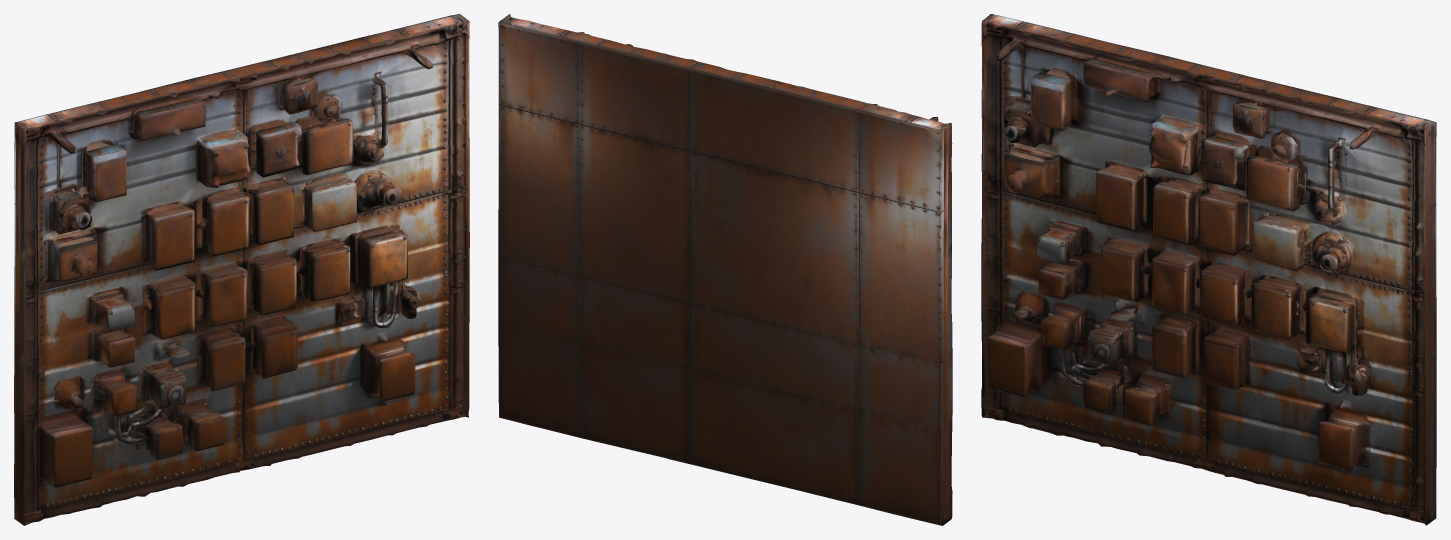
File: Wall04.glb
The picture shows the model from 3 angles, left to right: view 1: azimuth 30°, elevation 25°; view 2: azimuth 150°, elevation 25°; view 3: azimuth 330°, elevation 25°; orthographic projection.
Bounding box in the file's own units: 2 × 1.71 × 0.226.
1 material, 1 textured.
